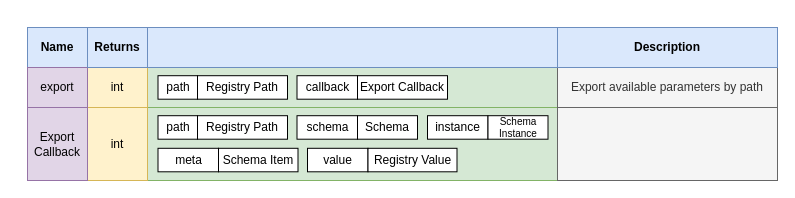
The diagram is 795 pixels wide and 198 high, and some of its shapes have lost their labels. Each missing label, with the centre of its shape:
"Handle export of a specific parameter" belongs at (x=667, y=143).
"Parameters" belongs at (x=352, y=47).
